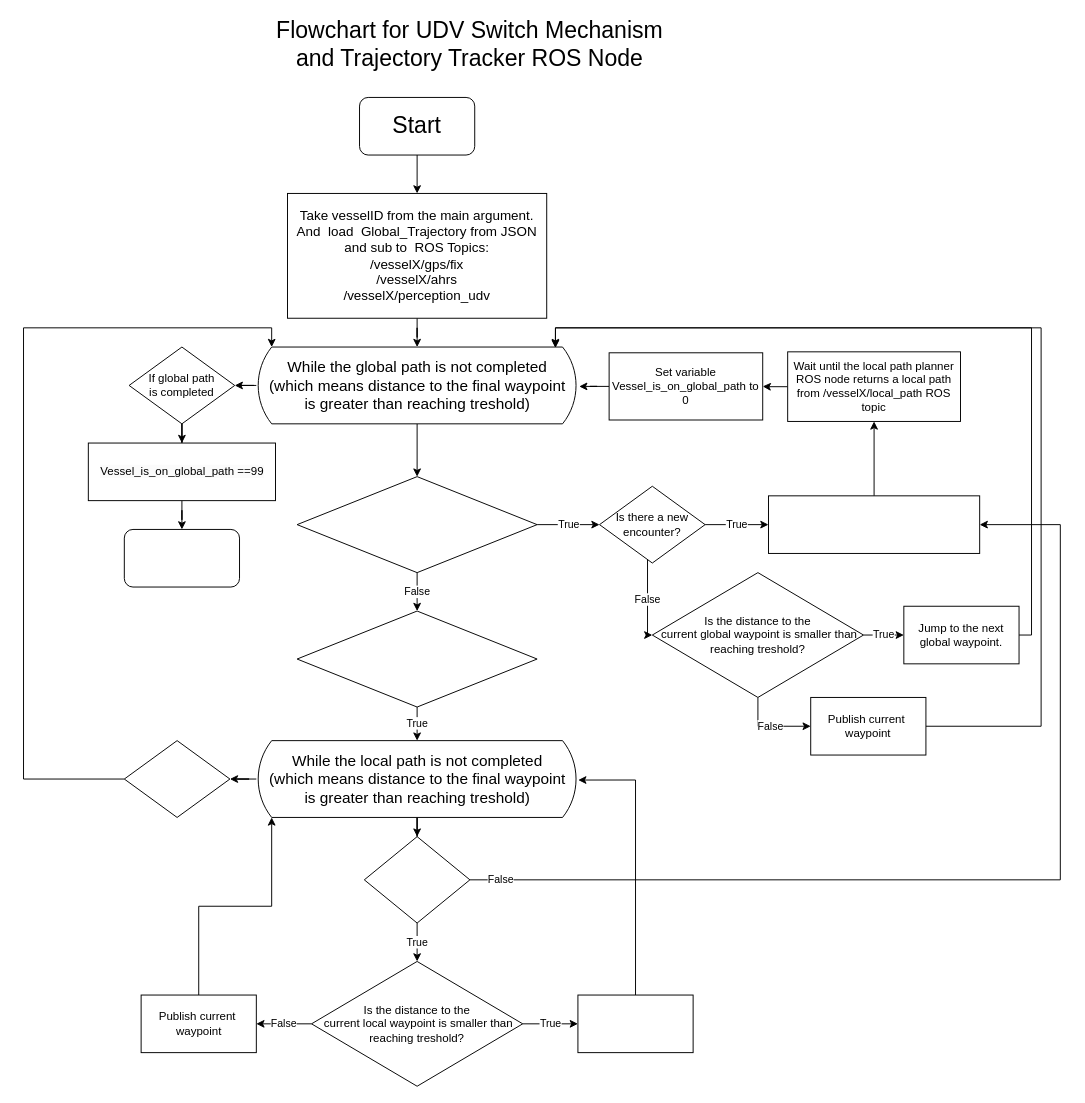
The diagram is 1085 pixels wide and 1103 high, and some of its shapes have lost their labels. The box of each missing label's shape, as (x1, y1, x2, y2) in pixels:
Elif variable Vessel_is_on_global_path == 0: (296, 610, 537, 707)
End thread.: (123, 528, 240, 587)
If local path is completed: (123, 740, 230, 817)
If the local path is intact: (363, 836, 470, 923)
If variable Vessel_is_on_global_path == 1: (296, 476, 537, 573)
Jump to the next local waypoint.: (577, 994, 693, 1053)
Set the Vessel_is_on_global_path to 0 and publish to /vesselX/local_path_args: (768, 495, 980, 553)
